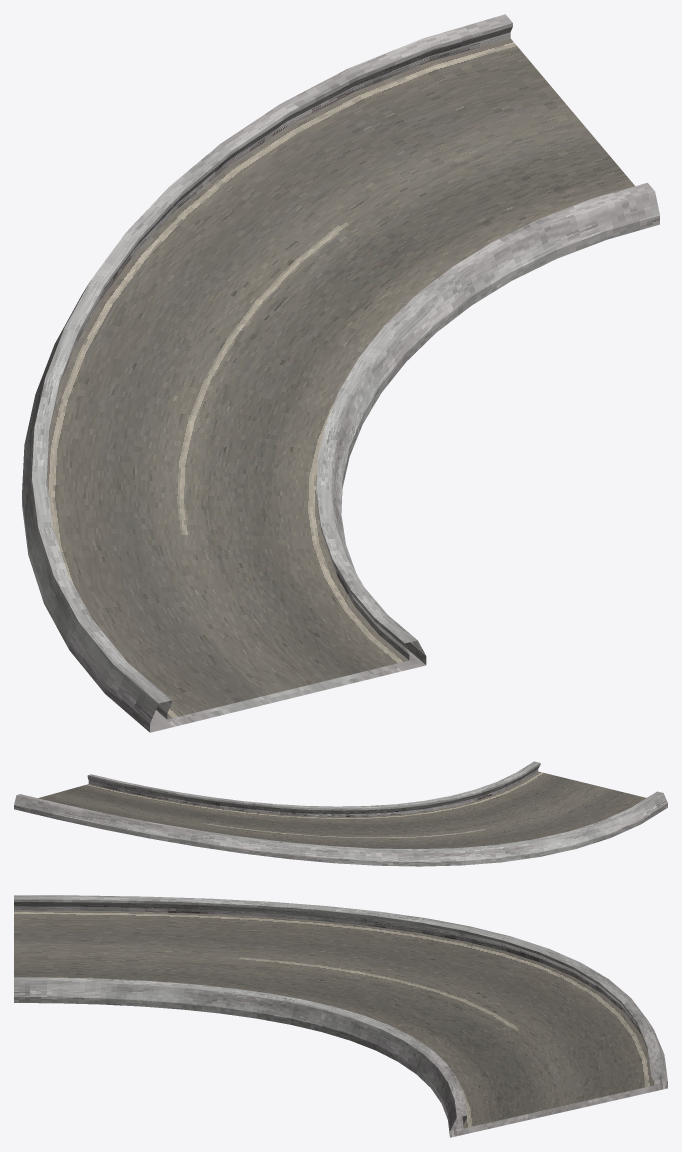
Rendered from road-Turn-Flat-HalfBankedRight-Up1-Right-Size3.glb.
3 views of the same model, one above another, from view 1: azimuth 30°, elevation 25°; view 2: azimuth 150°, elevation 25°; view 3: azimuth 270°, elevation 25° (orthographic). The views are drawn at different scales.
Parts seen in each view (by area): view 1: road-Turn-Flat-HalfBankedRight-Up1-Right-Size3; view 2: road-Turn-Flat-HalfBankedRight-Up1-Right-Size3; view 3: road-Turn-Flat-HalfBankedRight-Up1-Right-Size3.
Part boxes in pixels (x1,y1,x2,y2): road-Turn-Flat-HalfBankedRight-Up1-Right-Size3: [22, 14, 659, 732]; road-Turn-Flat-HalfBankedRight-Up1-Right-Size3: [14, 761, 667, 866]; road-Turn-Flat-HalfBankedRight-Up1-Right-Size3: [14, 895, 667, 1137].
Size of the model in its own units: 3 by 0.5859 by 3.
Materials: 2 (2 with a texture image).
